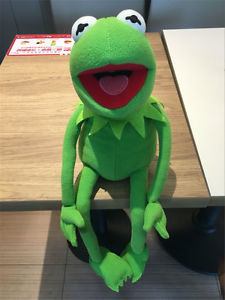kermit: (68, 8, 157, 119)
